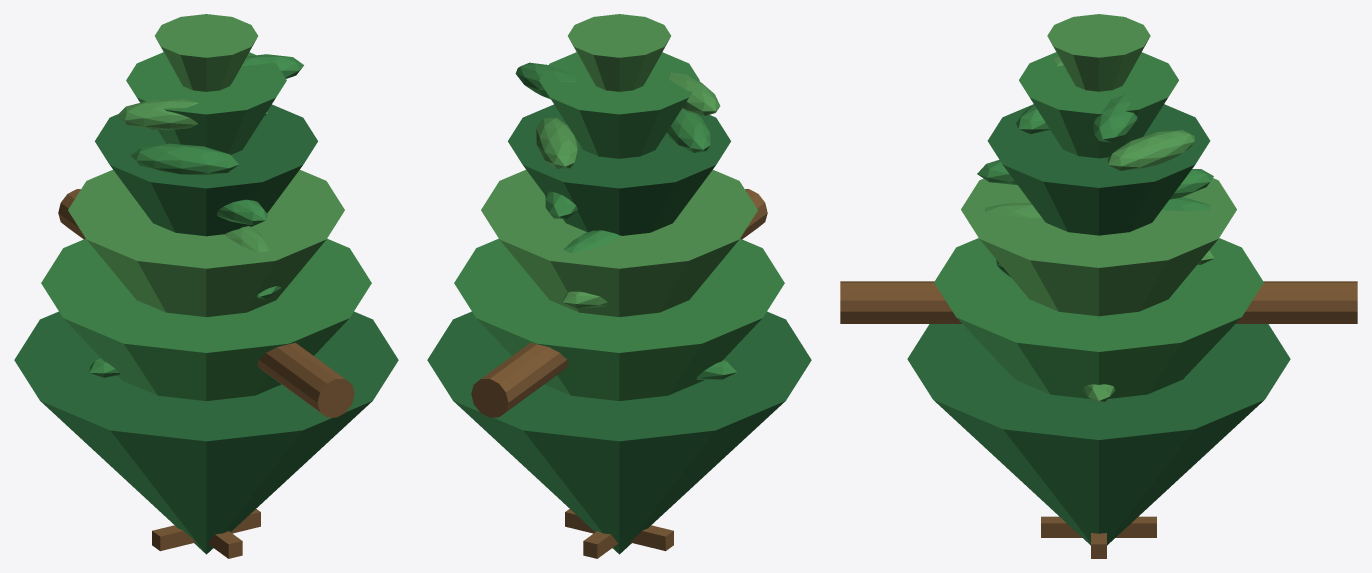
The model's file is pine_tree_ps2.glb.
The picture shows the model from 3 angles, left to right: view 1: azimuth 30°, elevation 25°; view 2: azimuth 150°, elevation 25°; view 3: azimuth 270°, elevation 25°; orthographic projection.
Visible parts, largest first — view 1: FoliageTier0, FoliageTier1, FoliageTier2, FoliageTier3, FoliageTier4, FoliageTier5, Trunk, BranchTuft5, BranchTuft6, BranchTuft4, Root2, BranchTuft13 (+2 smaller); view 2: FoliageTier0, FoliageTier1, FoliageTier2, FoliageTier3, FoliageTier4, FoliageTier5, Trunk, BranchTuft12, BranchTuft5, BranchTuft6, BranchTuft13, Root2 (+5 smaller); view 3: FoliageTier0, FoliageTier1, FoliageTier2, FoliageTier3, Trunk, FoliageTier4, FoliageTier5, BranchTuft12, BranchTuft13, BranchTuft11, Root1, Root3 (+1 smaller).
Boxes of the visible parts, x1=… form: FoliageTier0: x1=14, y1=311, x2=398, y2=554; FoliageTier1: x1=41, y1=238, x2=371, y2=400; FoliageTier2: x1=68, y1=170, x2=344, y2=316; FoliageTier3: x1=95, y1=104, x2=317, y2=236; FoliageTier4: x1=126, y1=52, x2=286, y2=154; FoliageTier5: x1=155, y1=14, x2=257, y2=91; Trunk: x1=58, y1=189, x2=354, y2=417; BranchTuft5: x1=130, y1=143, x2=238, y2=174; BranchTuft6: x1=117, y1=99, x2=198, y2=129; BranchTuft4: x1=217, y1=199, x2=267, y2=225; Root2: x1=152, y1=525, x2=195, y2=551; BranchTuft13: x1=242, y1=54, x2=303, y2=78; FoliageTier0: x1=427, y1=311, x2=811, y2=554; FoliageTier1: x1=454, y1=238, x2=784, y2=400; FoliageTier2: x1=481, y1=170, x2=757, y2=316; FoliageTier3: x1=508, y1=104, x2=730, y2=235; FoliageTier4: x1=539, y1=52, x2=699, y2=158; FoliageTier5: x1=568, y1=14, x2=670, y2=91; Trunk: x1=471, y1=189, x2=767, y2=417; BranchTuft12: x1=536, y1=117, x2=577, y2=169; BranchTuft5: x1=666, y1=109, x2=710, y2=152; BranchTuft6: x1=668, y1=72, x2=720, y2=115; BranchTuft13: x1=515, y1=62, x2=575, y2=99; Root2: x1=630, y1=525, x2=673, y2=551; FoliageTier0: x1=907, y1=324, x2=1290, y2=545; FoliageTier1: x1=934, y1=238, x2=1263, y2=398; FoliageTier2: x1=961, y1=178, x2=1236, y2=316; FoliageTier3: x1=987, y1=104, x2=1210, y2=235; Trunk: x1=840, y1=281, x2=1357, y2=323; FoliageTier4: x1=1019, y1=52, x2=1178, y2=158; FoliageTier5: x1=1047, y1=14, x2=1150, y2=91; BranchTuft12: x1=1107, y1=130, x2=1194, y2=170; BranchTuft13: x1=1093, y1=95, x2=1137, y2=142; BranchTuft11: x1=1169, y1=169, x2=1213, y2=199; Root1: x1=1041, y1=516, x2=1081, y2=537; Root3: x1=1116, y1=516, x2=1156, y2=537.
Size of the model in its own units: 4.3 by 6.4 by 5.8.
